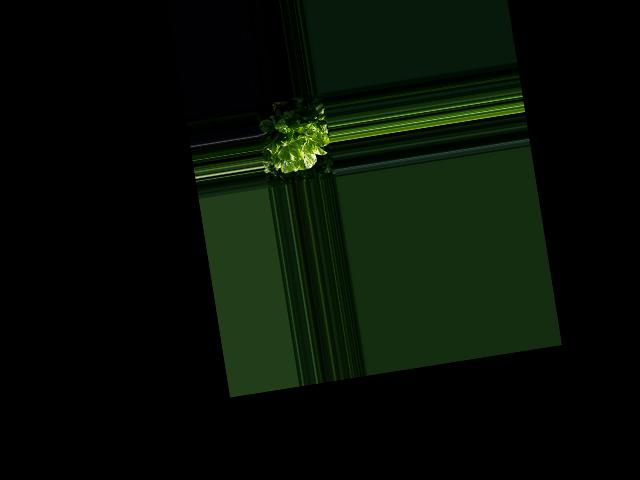lettuce: (258, 107, 326, 175)
